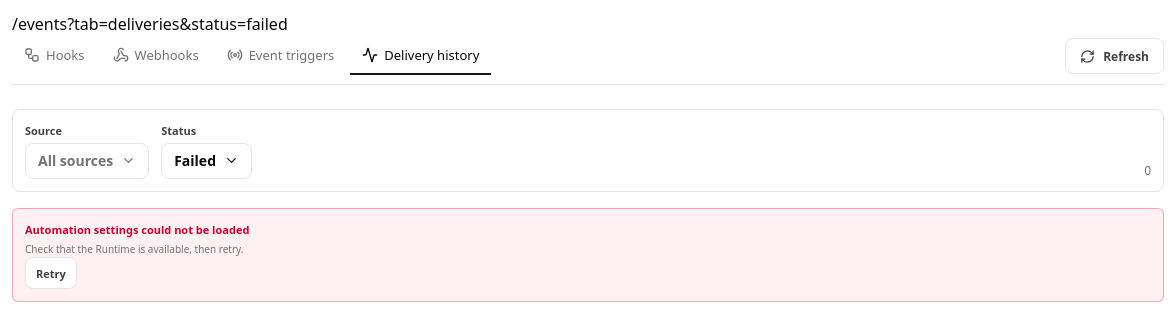
Test: Hooks & Events and Scheduled jobs Admin surfaces › keeps tabs shareable and restores each tab’s own filters
Click the link "Webhooks". click: coordinates (156, 55)
box: [112,46,199,64]
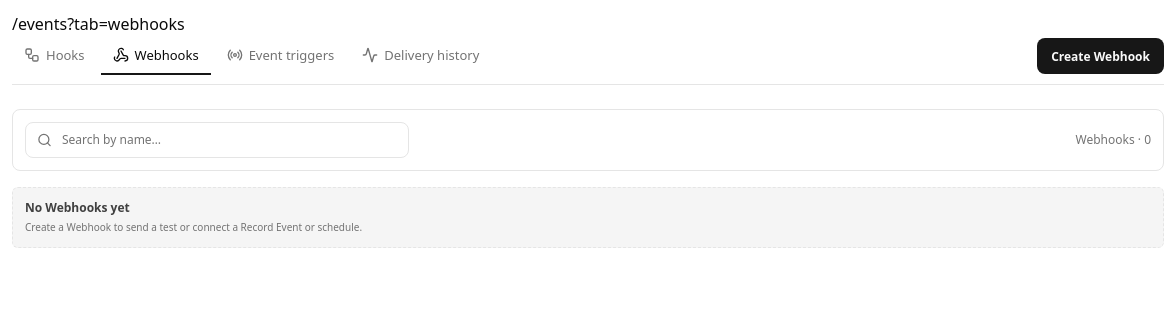
Result: the text named "Current URL" reads "/events?tab=webhooks" at [12,13,185,35]
